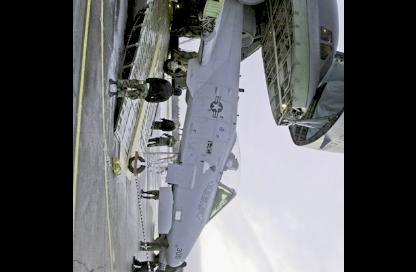A10: (127, 0, 274, 269)
C17: (111, 0, 345, 181)
